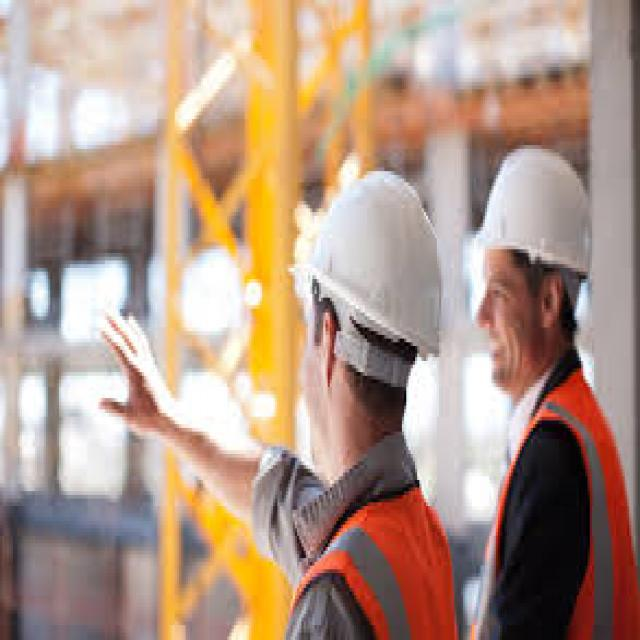Reflective-Jacket: (469, 364, 640, 640), (284, 457, 458, 640)
Safety-Helmet: (288, 164, 446, 361), (467, 134, 603, 294)
